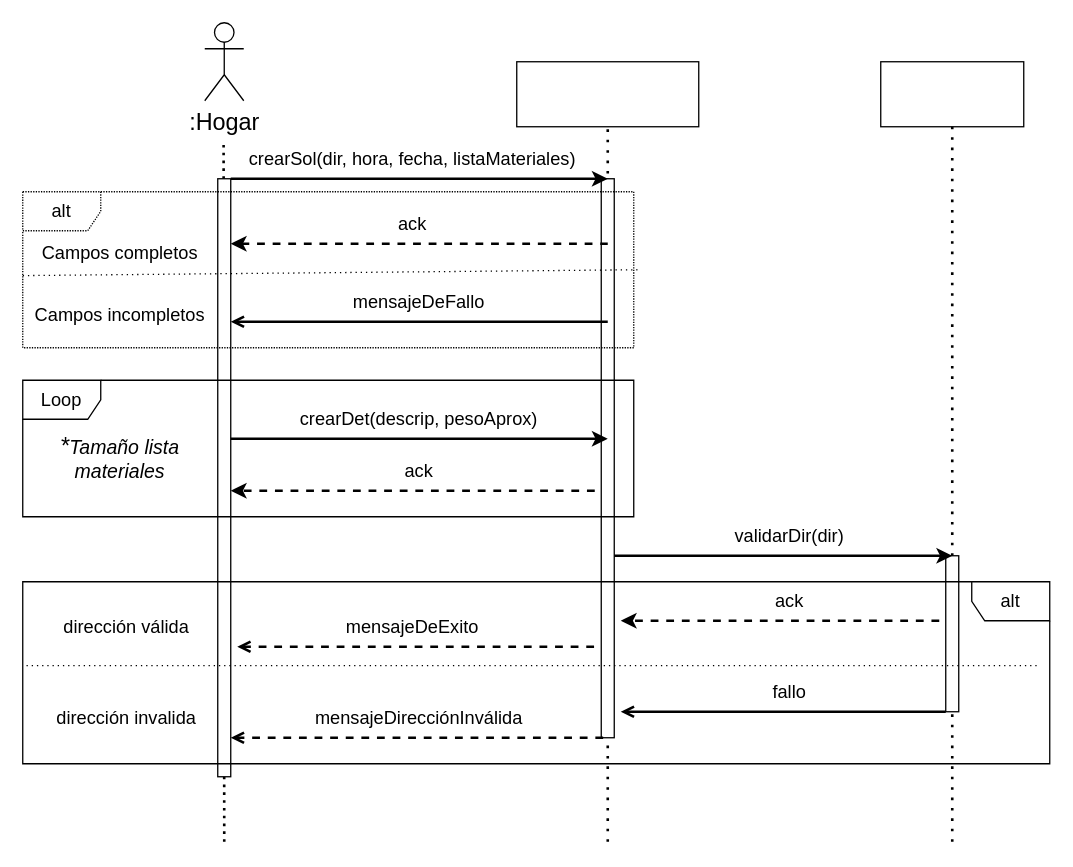
Image size: 1073x867. Some labels were removed from this diagram. The box of each missing label's shape, as (x1, y1, x2, y2) in pixels:
:Sistema: (515, 60, 699, 127)
GPS: (879, 60, 1024, 127)
